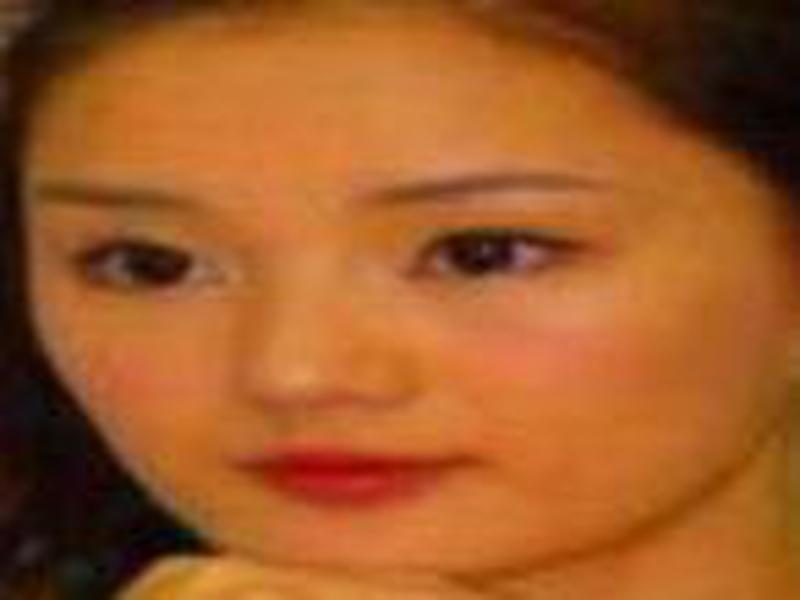without_mask: (21, 23, 785, 582)
